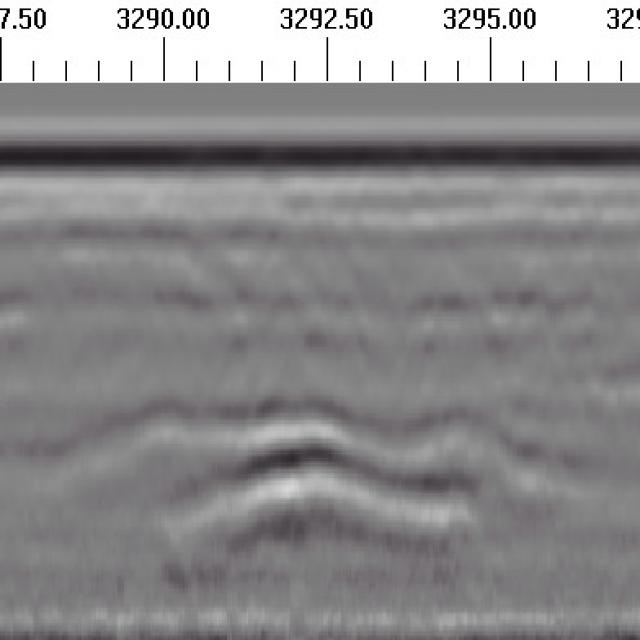loose: (164, 379, 545, 565)
